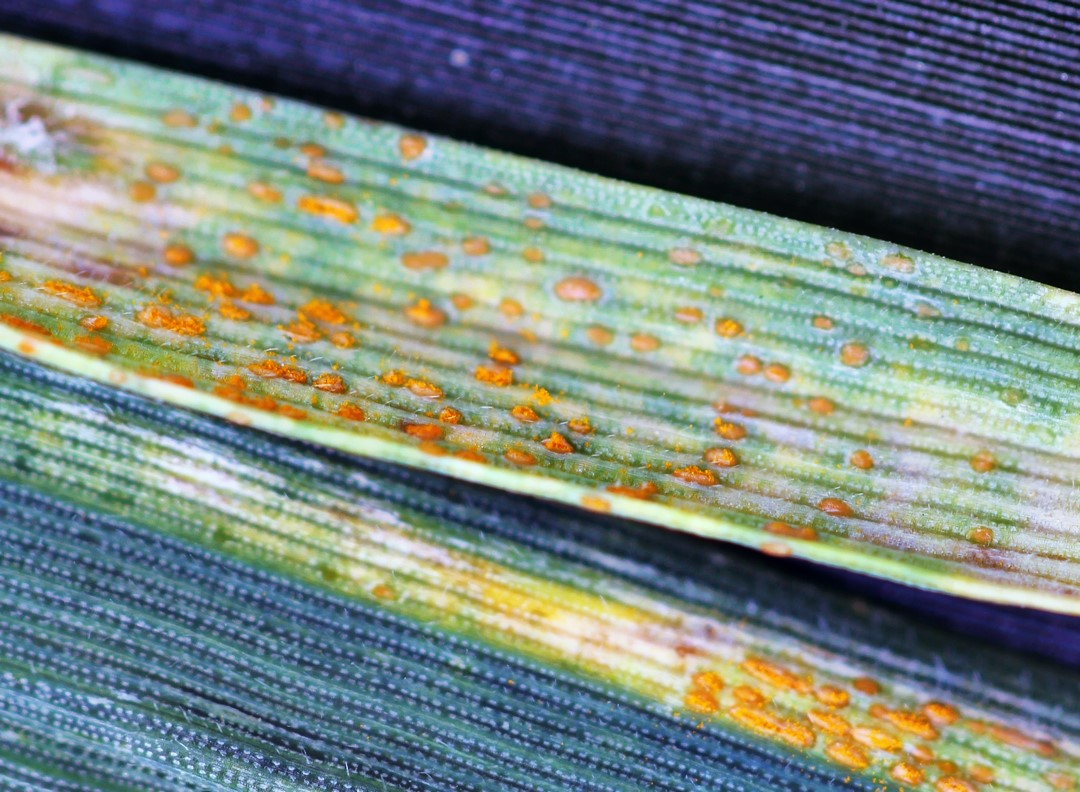Leaf Rust: (98, 149, 1003, 784)
